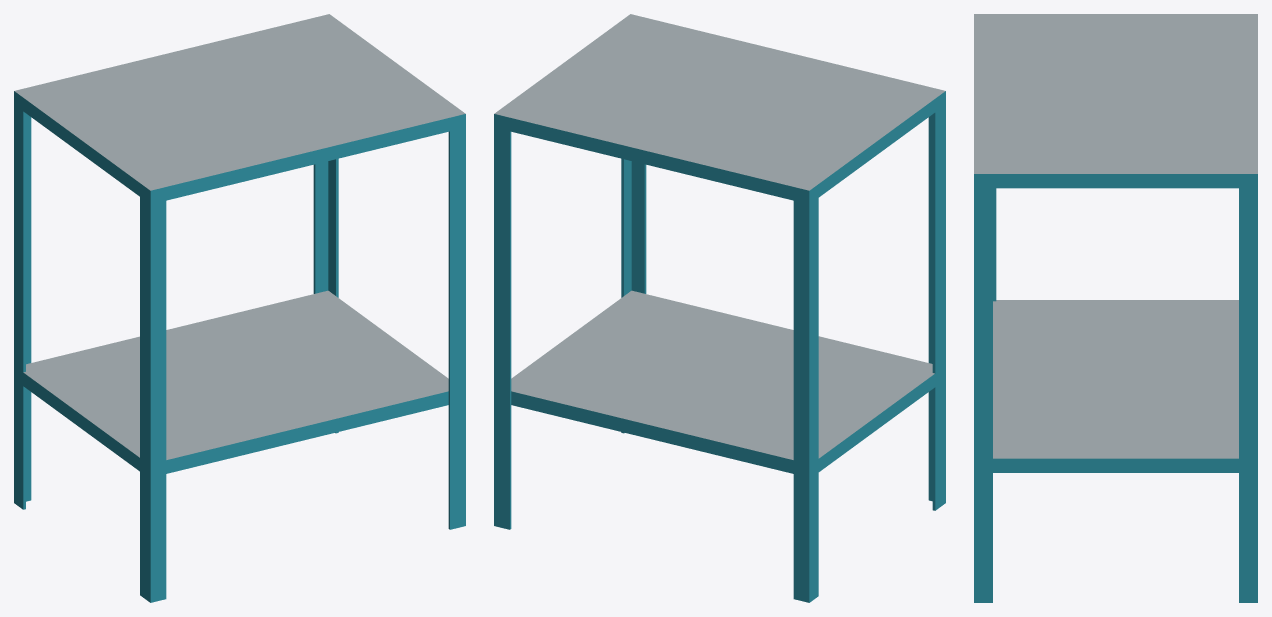
Rendered from Adjustable_Height_Work_Table.dae.
3 renders of one model, left to right at view 1: azimuth 30°, elevation 25°; view 2: azimuth 150°, elevation 25°; view 3: azimuth 270°, elevation 25°, orthographic. The views are drawn at different scales.
Visible parts, largest first — view 1: Adjustable_Height_Work_Table_457x610x762; view 2: Adjustable_Height_Work_Table_457x610x762; view 3: Adjustable_Height_Work_Table_457x610x762.
Boxes of the visible parts, left/top/right/bottom form: Adjustable_Height_Work_Table_457x610x762: left=14, top=14, right=465, bottom=602; Adjustable_Height_Work_Table_457x610x762: left=494, top=14, right=945, bottom=602; Adjustable_Height_Work_Table_457x610x762: left=974, top=14, right=1257, bottom=602.
Size of the model in its own units: 0.61 by 0.457 by 0.762.
